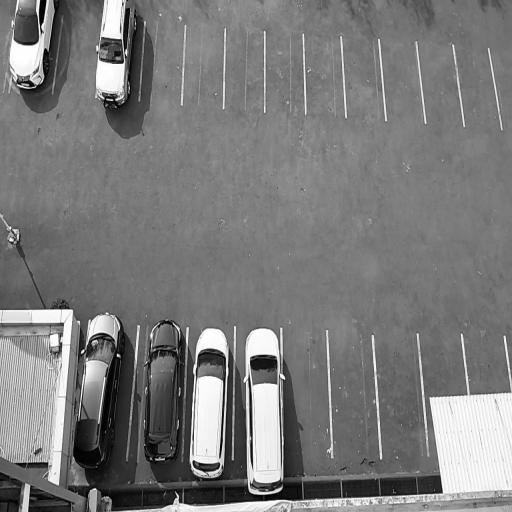Car: (68, 300, 131, 475), (243, 319, 288, 499), (139, 315, 186, 465), (188, 321, 231, 482), (90, 0, 141, 111), (5, 0, 61, 88)
Space Available: (327, 329, 381, 457), (372, 334, 428, 456), (280, 325, 331, 454), (417, 37, 464, 126), (453, 45, 501, 128), (139, 20, 186, 104), (53, 10, 100, 94), (379, 37, 425, 122), (342, 35, 387, 118), (182, 24, 226, 106), (223, 26, 265, 111), (265, 29, 306, 112), (304, 32, 345, 113), (419, 334, 468, 397), (462, 334, 511, 395), (489, 46, 512, 128)
